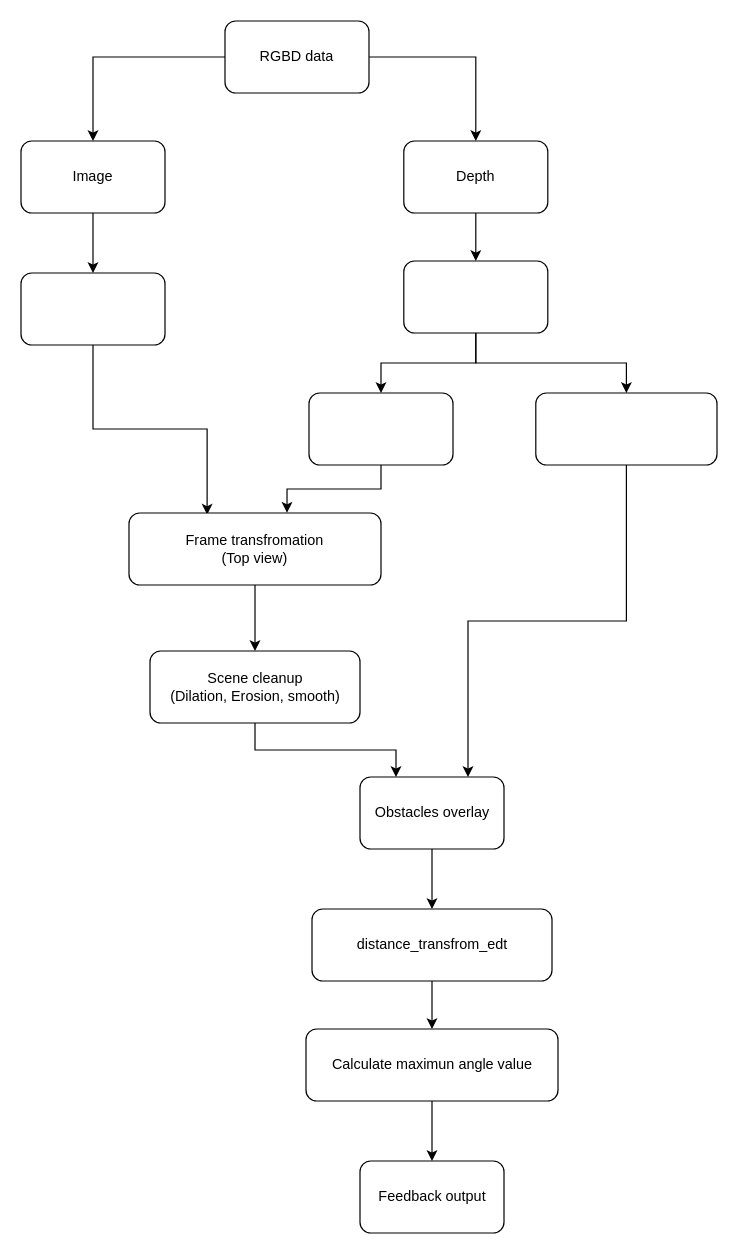
Some shapes in this 738 by 1254 pixel diagram are drawn without their labels. Each missing label, with the box of its shape:
Calculate by indexs (Upper half of the frame): (535, 392, 717, 465)
PIDnet: (20, 272, 165, 345)
Point Cloud: (403, 260, 548, 333)
RANSAC (Floor detection): (308, 392, 453, 465)
